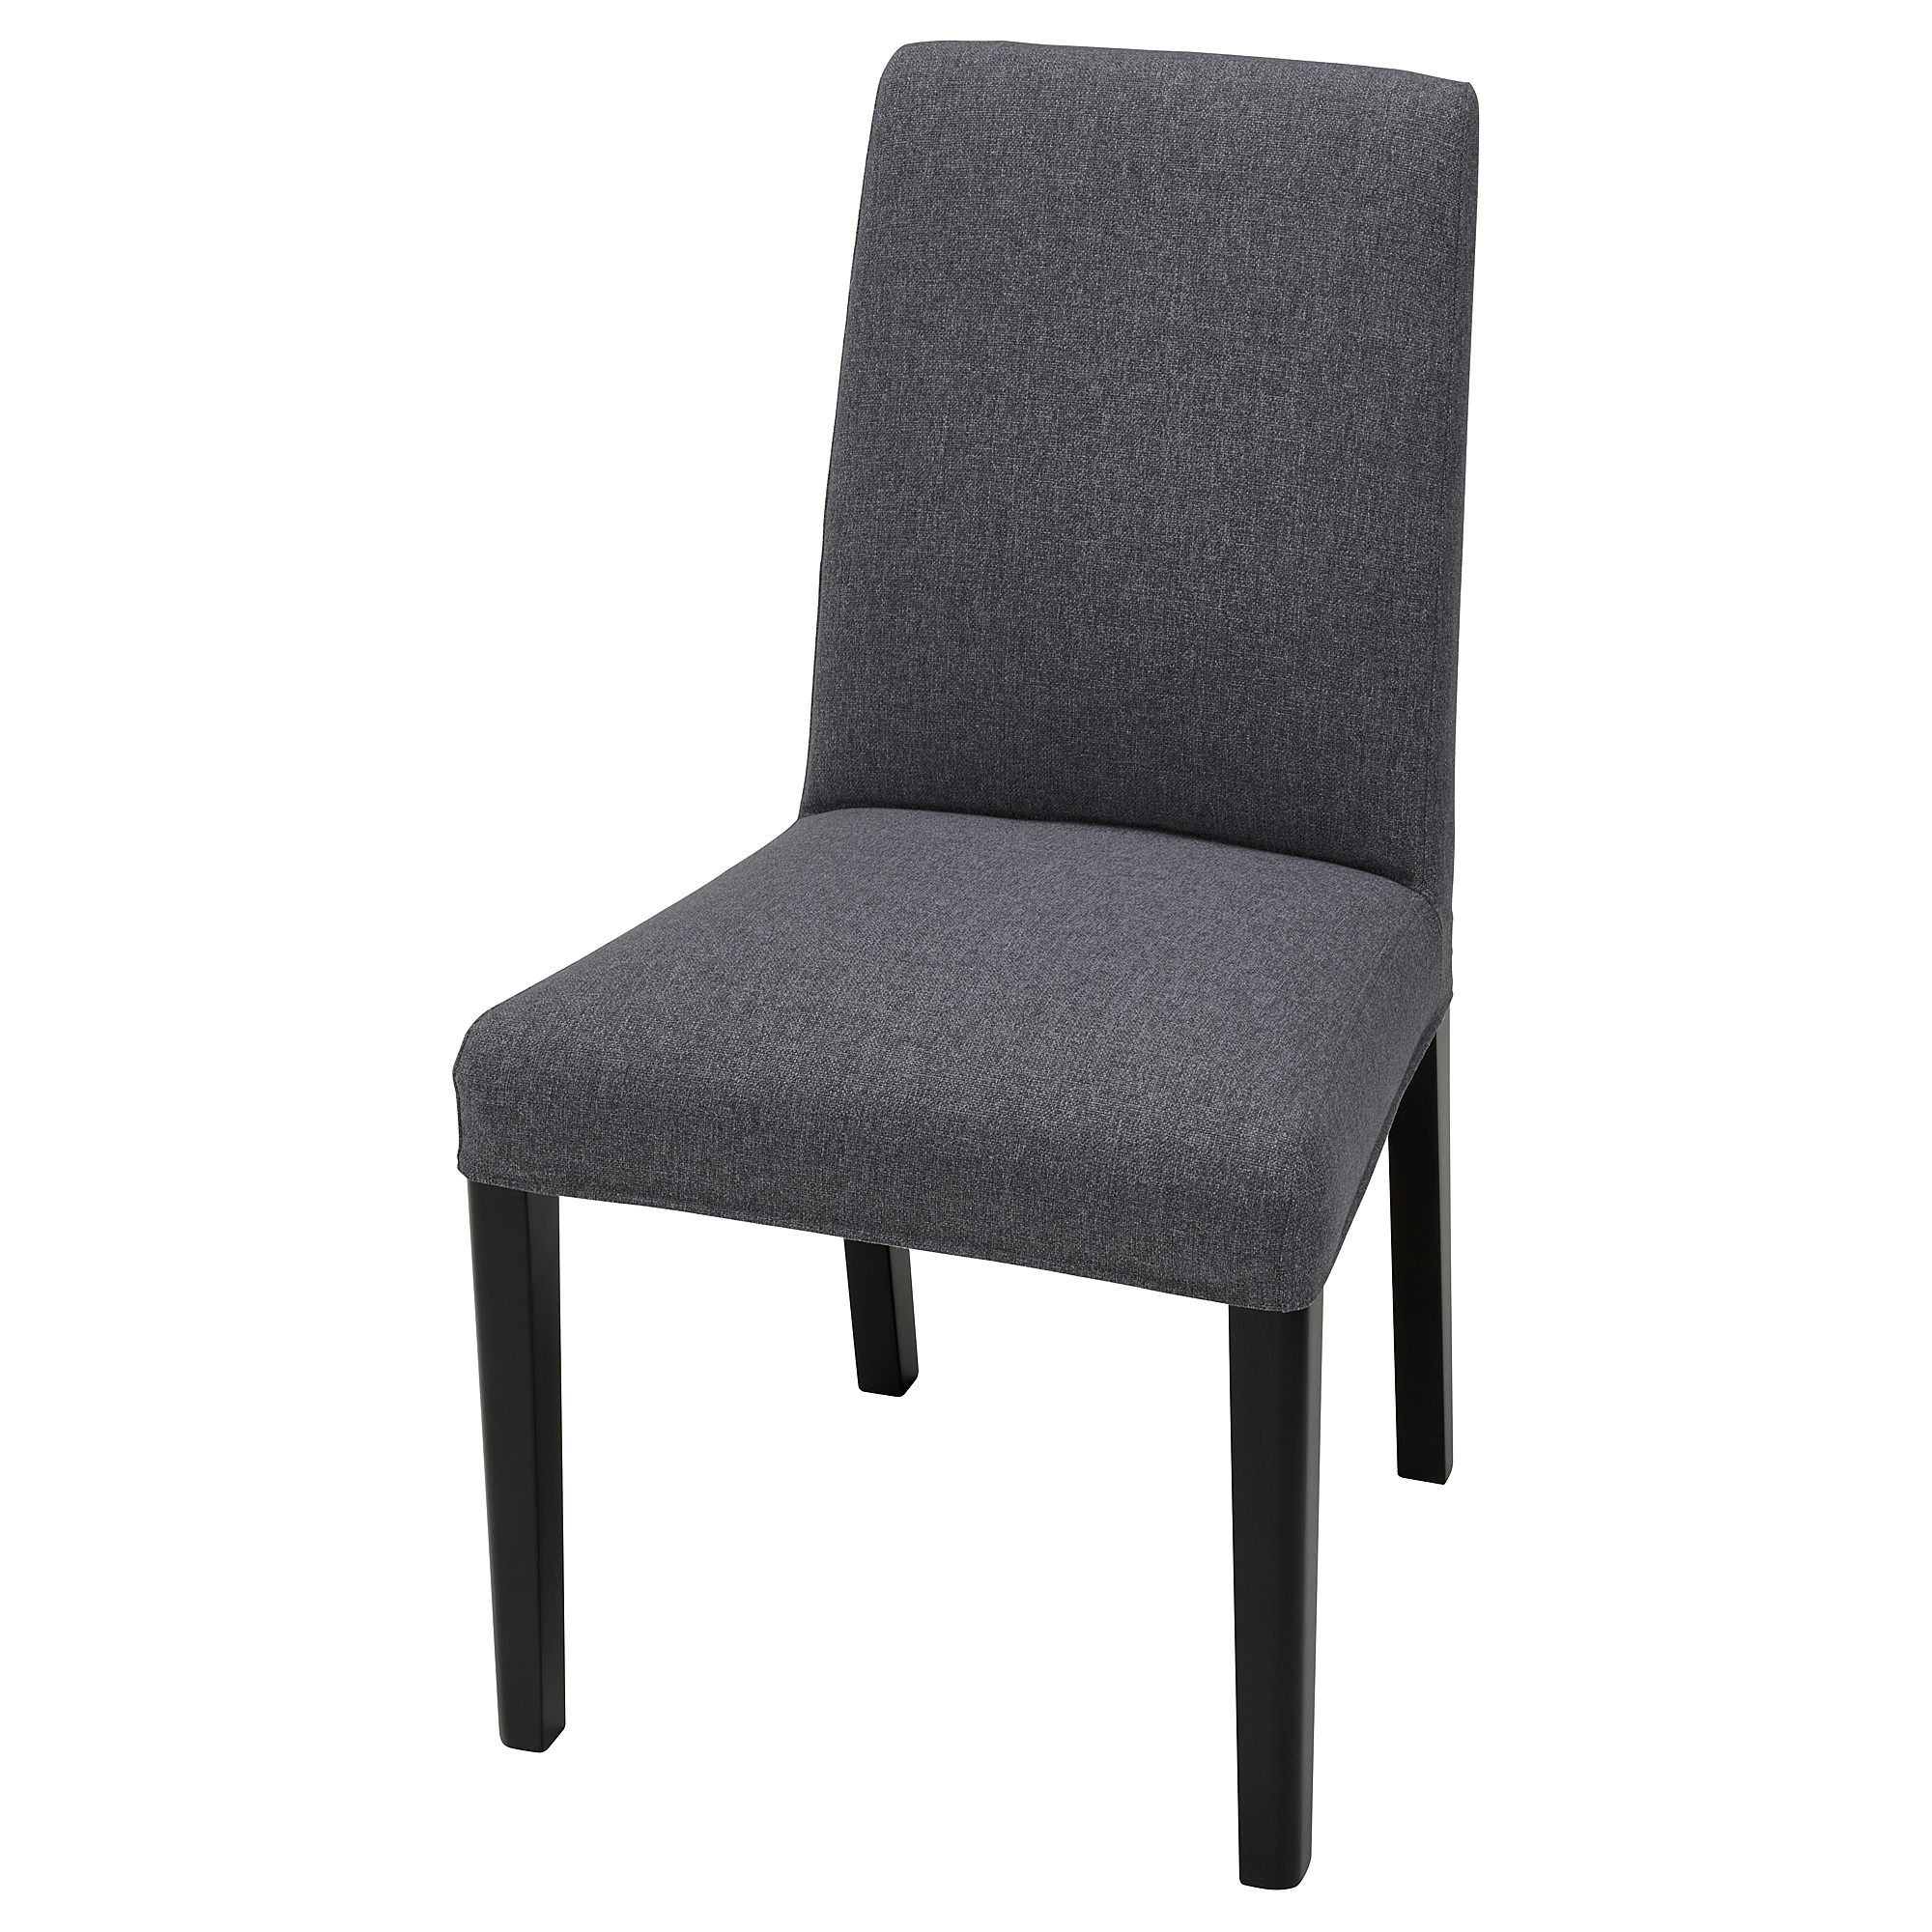kursi: (456, 42, 1484, 1882)
